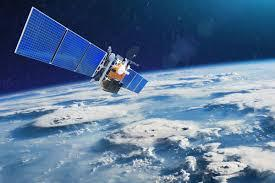body: (101, 53, 132, 95)
solar: (12, 5, 109, 80), (120, 67, 150, 96)
